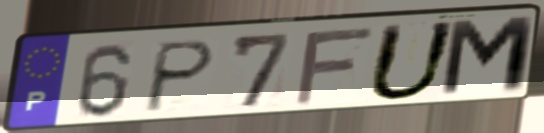6: (74, 40, 135, 121)
7: (230, 32, 295, 111)
F: (290, 24, 379, 109)
M: (436, 13, 539, 101)
P: (139, 38, 220, 116)
U: (362, 19, 462, 104)
